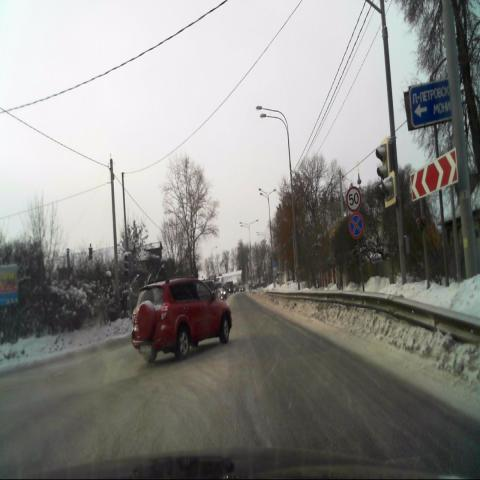3_27: (349, 213, 363, 238)
